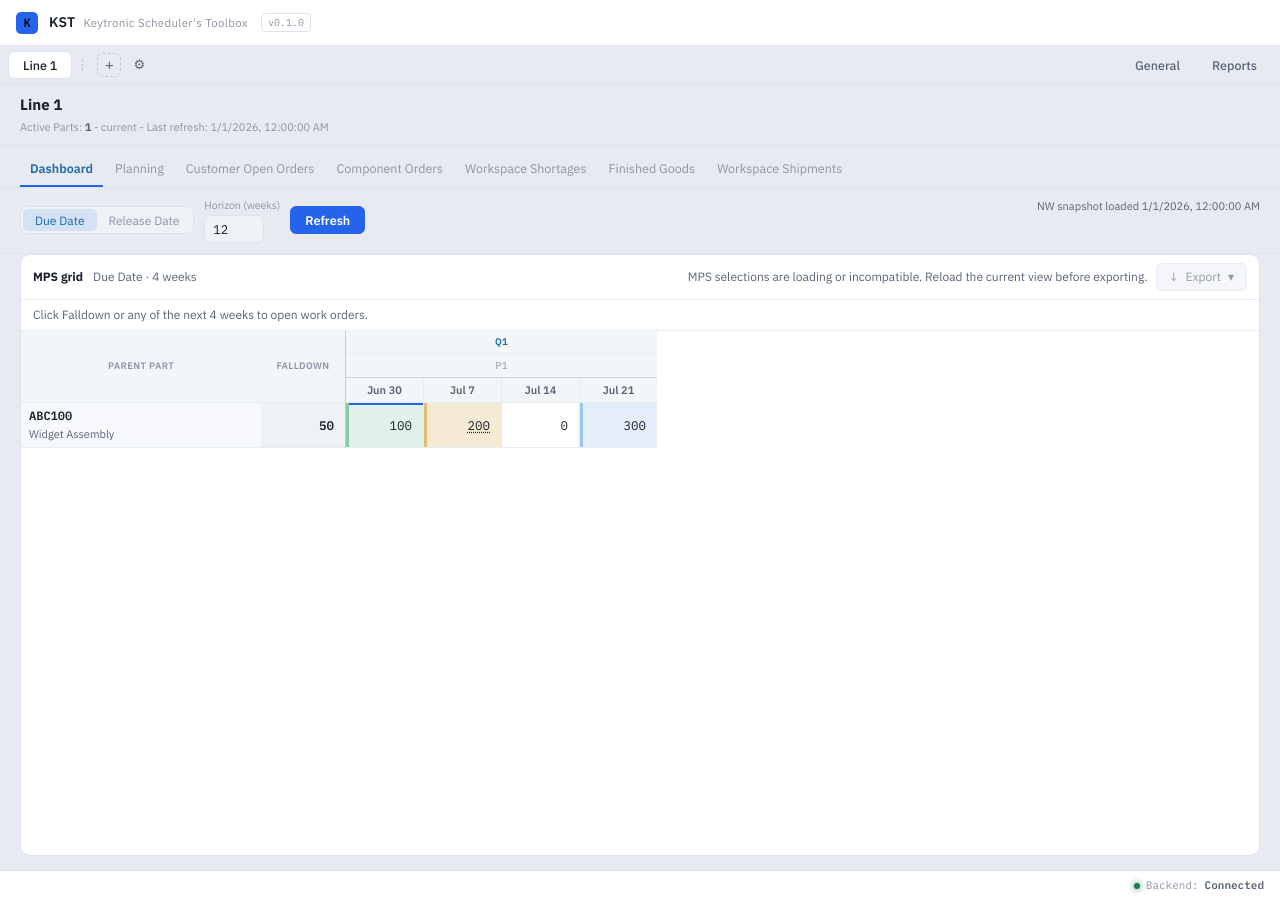
Test: MpsWorkspace › comfortable density selected in General remains applied to the shell after returning to the workspace
Expected: the text "Backend:" reads "Backend: Connected", x1=1134 y1=877 x2=1264 y2=894
Expected: the text "ABC100" is shown, x1=29 y1=408 x2=72 y2=423
Click the tab "General": (1158, 64) x1=1120 y1=50 x2=1195 y2=78
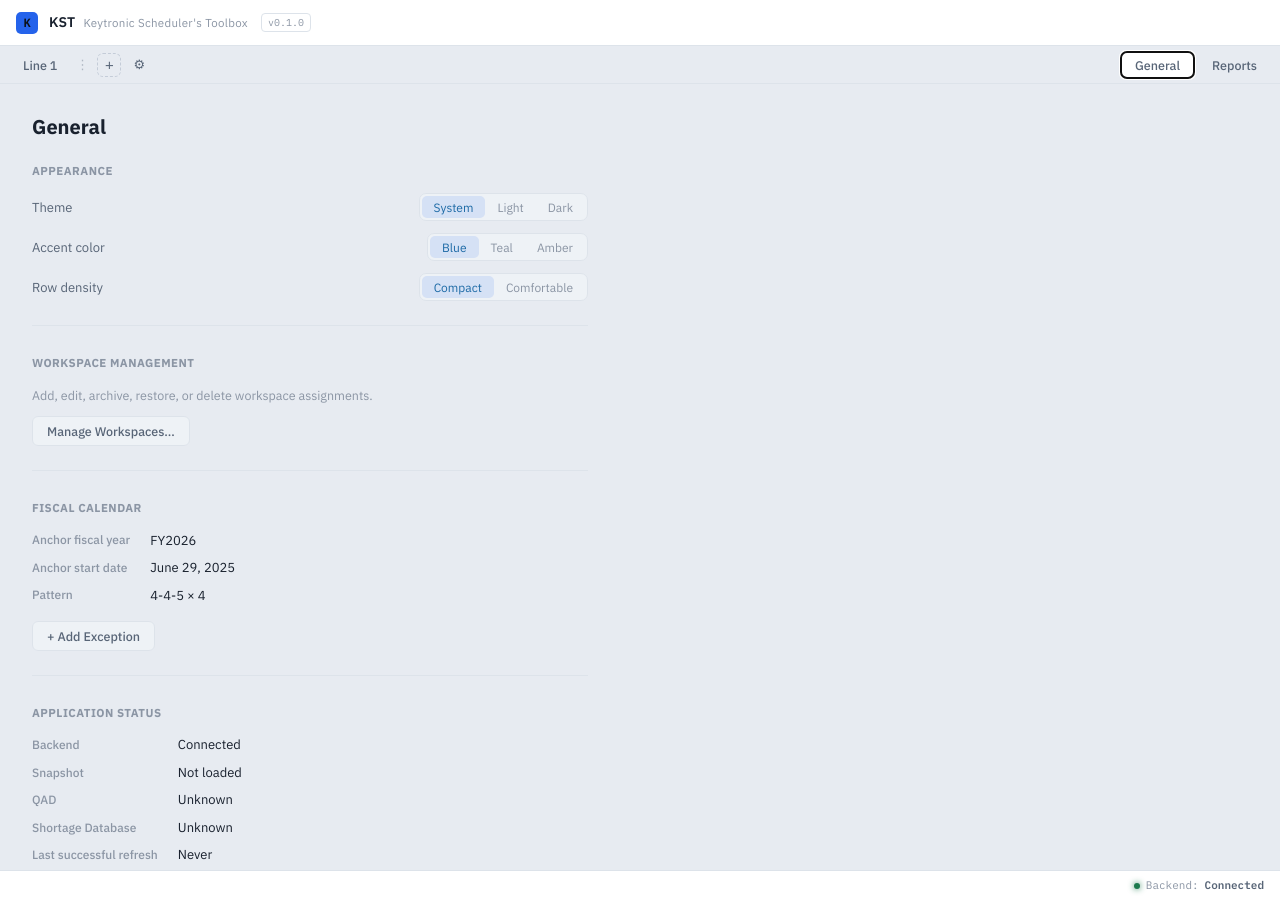
Now the heading "General" is shown, box x1=32 y1=113 x2=106 y2=140
Click the button "Comfortable": (539, 287) x1=494 y1=276 x2=585 y2=298
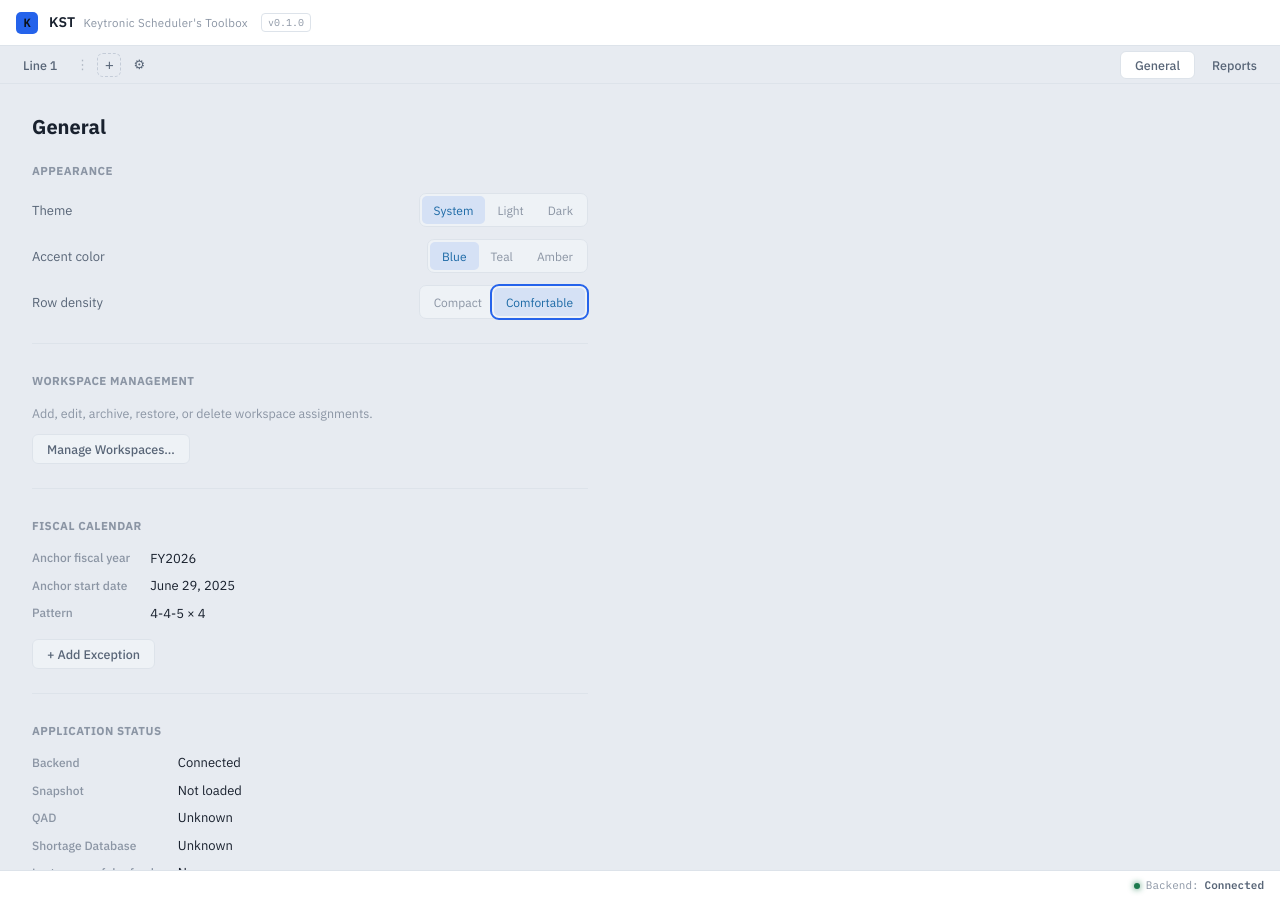
Now the element with class "shell" has attribute data-density="comfortable"
Click the tab "Line 1": (40, 64) x1=8 y1=50 x2=72 y2=78
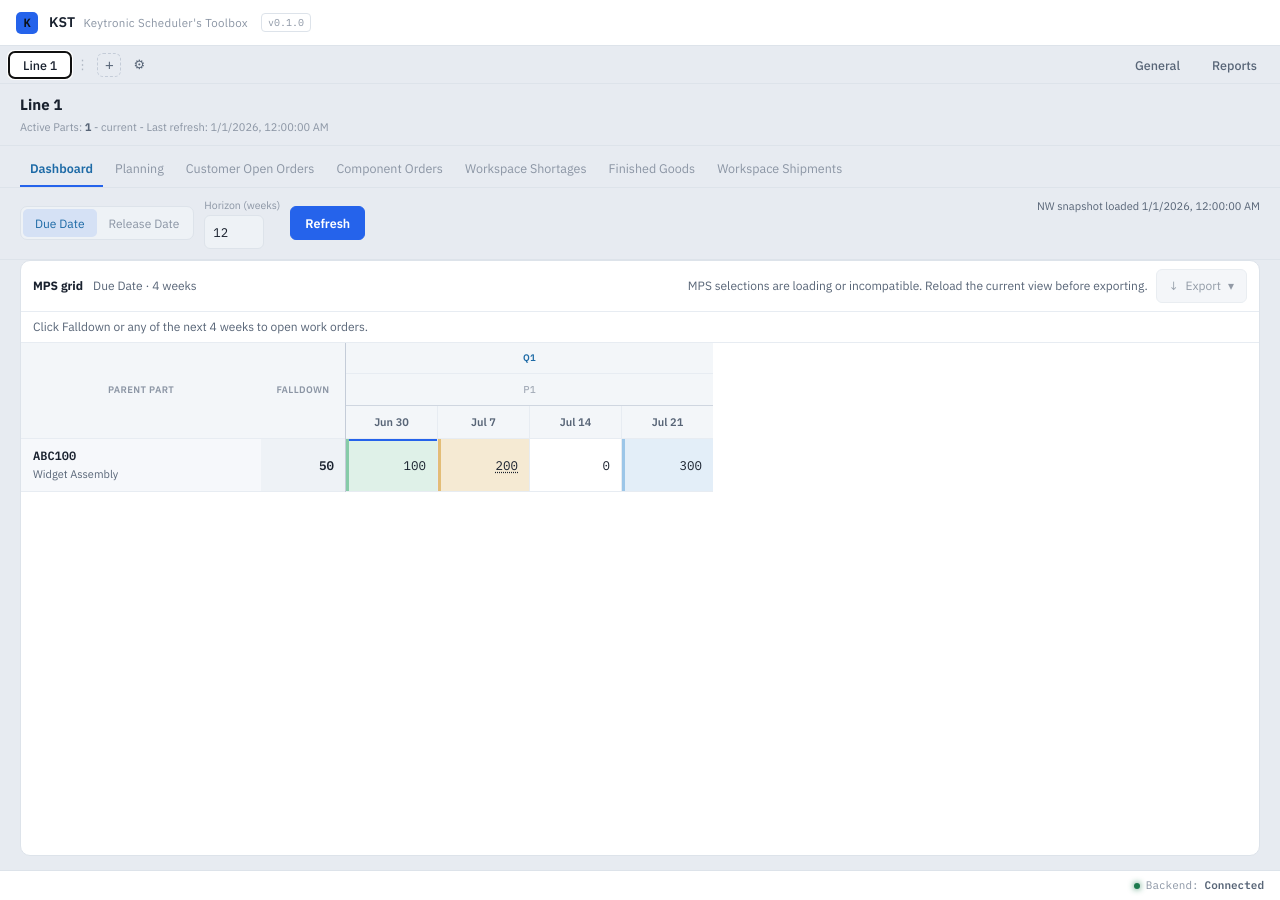
Now the text "ABC100" is shown, box x1=33 y1=448 x2=76 y2=463
